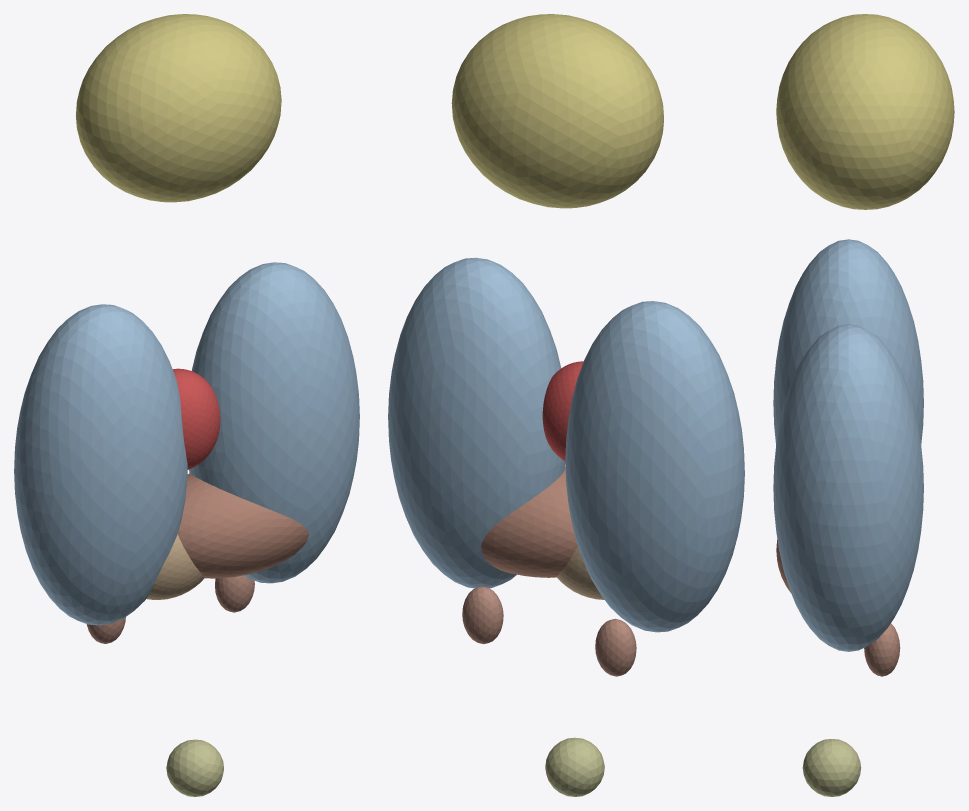
Rendered from organs.glb.
The picture shows the model from 3 angles, left to right: view 1: azimuth 30°, elevation 25°; view 2: azimuth 150°, elevation 25°; view 3: azimuth 270°, elevation 25°; orthographic projection. The views are drawn at different scales.
Visible parts, largest first — view 1: world; view 2: world; view 3: world.
Part boxes in pixels (<box>): world: <box>14,14,359,796</box>; world: <box>388,14,744,796</box>; world: <box>773,14,954,796</box>.
Bounding box in the file's own units: 0.92 × 2.03 × 0.4332.
